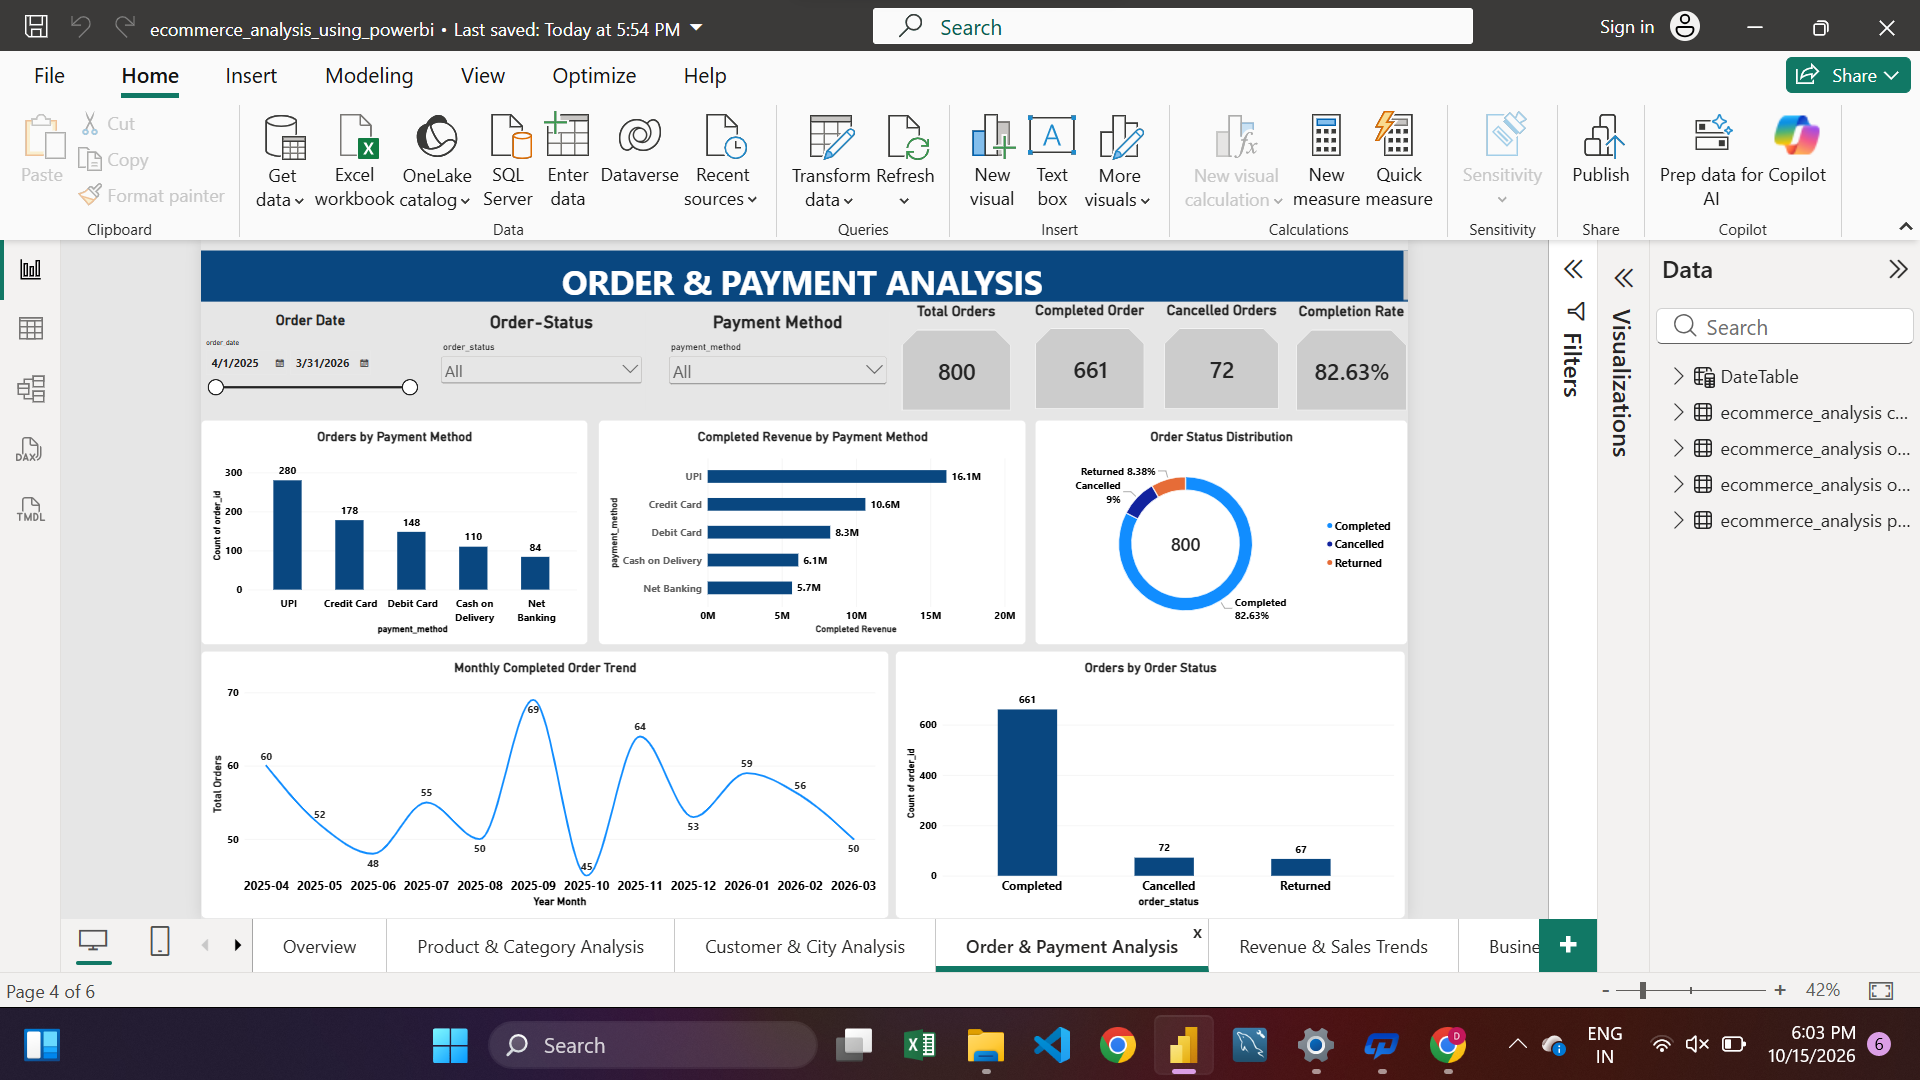

Layout of this report page (visuals, bound fields, positions):
{"tool":"powerbi","page":{"name":"Order & Payment Analysis","canvas":[1920,1080],"ordinal":3},"visuals":[{"type":"textbox","box":[0,17,1921.2,97.2],"z":0},{"type":"slicer","title":"Order Date","fields":{"Values":["ecommerce_analysis orders.order_date"]},"box":[0,114.5,348.3,155.1],"z":1000},{"type":"slicer","title":"Order-Status","fields":{"Values":["ecommerce_analysis orders.order_status"]},"box":[377,114.5,329.3,155.1],"z":2000},{"type":"slicer","title":"Payment Method","fields":{"Values":["ecommerce_analysis orders.payment_method"]},"box":[739.6,114.5,355.5,155.1],"z":3000},{"type":"textbox","box":[0,16.7,1920.7,81.1],"z":4000},{"type":"clusteredBarChart","title":"Completed Revenue by Payment Method","fields":{"Y":["ecommerce_analysis order_items.Completed Revenue"],"Category":["ecommerce_analysis orders.payment_method"]},"box":[632.1,286.3,680.3,357.2],"z":5000},{"type":"lineChart","title":"Monthly Completed Order Trend","fields":{"Category":["DateTable.Year Month"],"Y":["ecommerce_analysis order_items.Total Orders"]},"box":[0,654.8,1094.2,425.2],"z":6000},{"type":"clusteredColumnChart","title":"Orders by Payment Method","fields":{"Category":["ecommerce_analysis orders.payment_method"],"Y":["Count(ecommerce_analysis orders.order_id)"]},"box":[0,286.3,615.1,357.2],"z":7000},{"type":"cardVisual","title":"Completion Rate","fields":{"Data":["ecommerce_analysis order_items.Order Completion Rate"]},"box":[1741.7,100.2,176.6,171.8],"z":8000},{"type":"cardVisual","title":"Total Orders","fields":{"Data":["ecommerce_analysis order_items.Total Orders"]},"box":[1114.2,100.2,174.2,171.8],"z":9000},{"type":"cardVisual","title":"Completed Order","fields":{"Data":["ecommerce_analysis order_items.Completed Orders"]},"box":[1326.6,97.8,174.2,171.8],"z":10000},{"type":"cardVisual","title":"Cancelled Orders","fields":{"Data":["ecommerce_analysis order_items.Cancelled Orders"]},"box":[1531.8,97.8,183.7,171.8],"z":11000},{"type":"donutChart","title":"Order Status Distribution","fields":{"Category":["ecommerce_analysis orders.order_status"],"Y":["Count(ecommerce_analysis orders.order_id)"]},"box":[1326.6,286.3,592.4,357.2],"z":12000},{"type":"clusteredColumnChart","title":"Orders by Order Status","fields":{"Y":["Count(ecommerce_analysis orders.order_id)"],"Category":["ecommerce_analysis orders.order_status"]},"box":[1105.5,654.8,810.7,425.2],"z":13000}]}

Visuals, with their boxes on the page's 1920x1080 design canvas (x1, y1, x2, y2). These are canvas units, not pixel positions in the 1920x1080 screenshot, which may show the page scaled, cropped or inside an application window:
textbox: 0, 17, 1921, 114
"Order Date" slicer: 0, 114, 348, 270
"Order-Status" slicer: 377, 114, 706, 270
"Payment Method" slicer: 740, 114, 1095, 270
textbox: 0, 17, 1921, 98
"Completed Revenue by Payment Method" clusteredBarChart: 632, 286, 1312, 644
"Monthly Completed Order Trend" lineChart: 0, 655, 1094, 1080
"Orders by Payment Method" clusteredColumnChart: 0, 286, 615, 644
"Completion Rate" cardVisual: 1742, 100, 1918, 272
"Total Orders" cardVisual: 1114, 100, 1288, 272
"Completed Order" cardVisual: 1327, 98, 1501, 270
"Cancelled Orders" cardVisual: 1532, 98, 1716, 270
"Order Status Distribution" donutChart: 1327, 286, 1919, 644
"Orders by Order Status" clusteredColumnChart: 1106, 655, 1916, 1080
